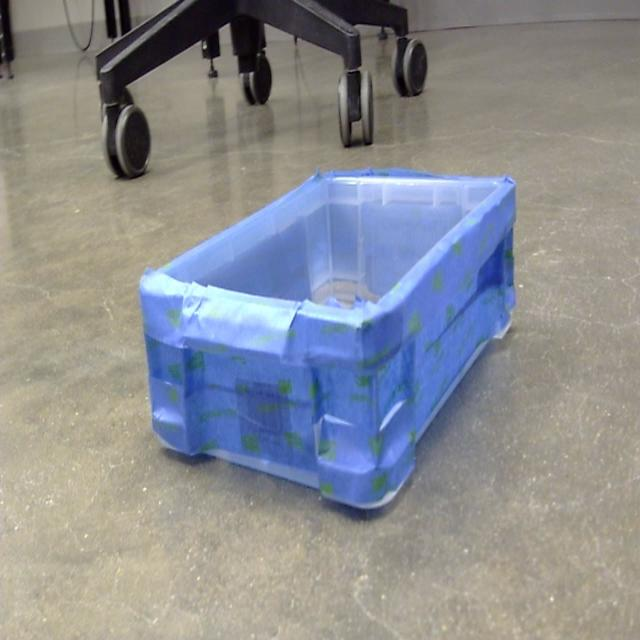bucket: (136, 169, 518, 517)
